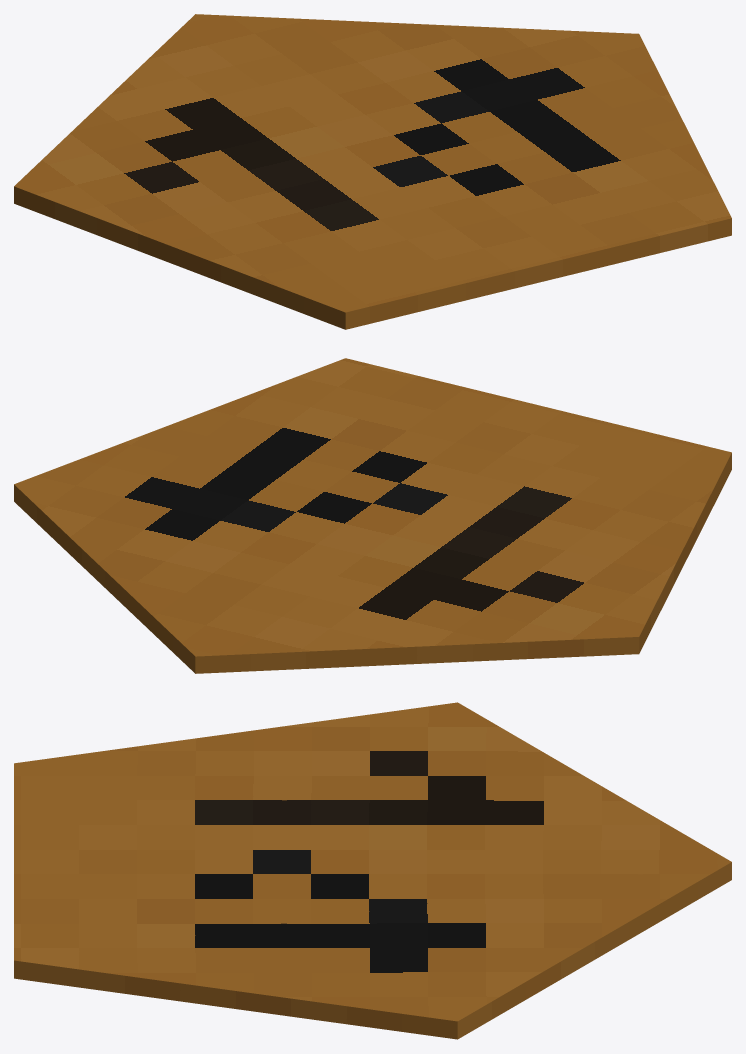
The model's file is 1cent.fbx.
3 renders of one model, top to bottom at view 1: azimuth 30°, elevation 25°; view 2: azimuth 150°, elevation 25°; view 3: azimuth 270°, elevation 25°, orthographic. The views are drawn at different scales.
Parts seen in each view (by area): view 1: ,01; view 2: ,01; view 3: ,01.
Boxes of the visible parts, <box> form: ,01: <box>14,14,731,329</box>; ,01: <box>14,358,731,673</box>; ,01: <box>14,702,731,1039</box>.
Size of the model in its own units: 2.43 by 0.0641 by 2.31.
